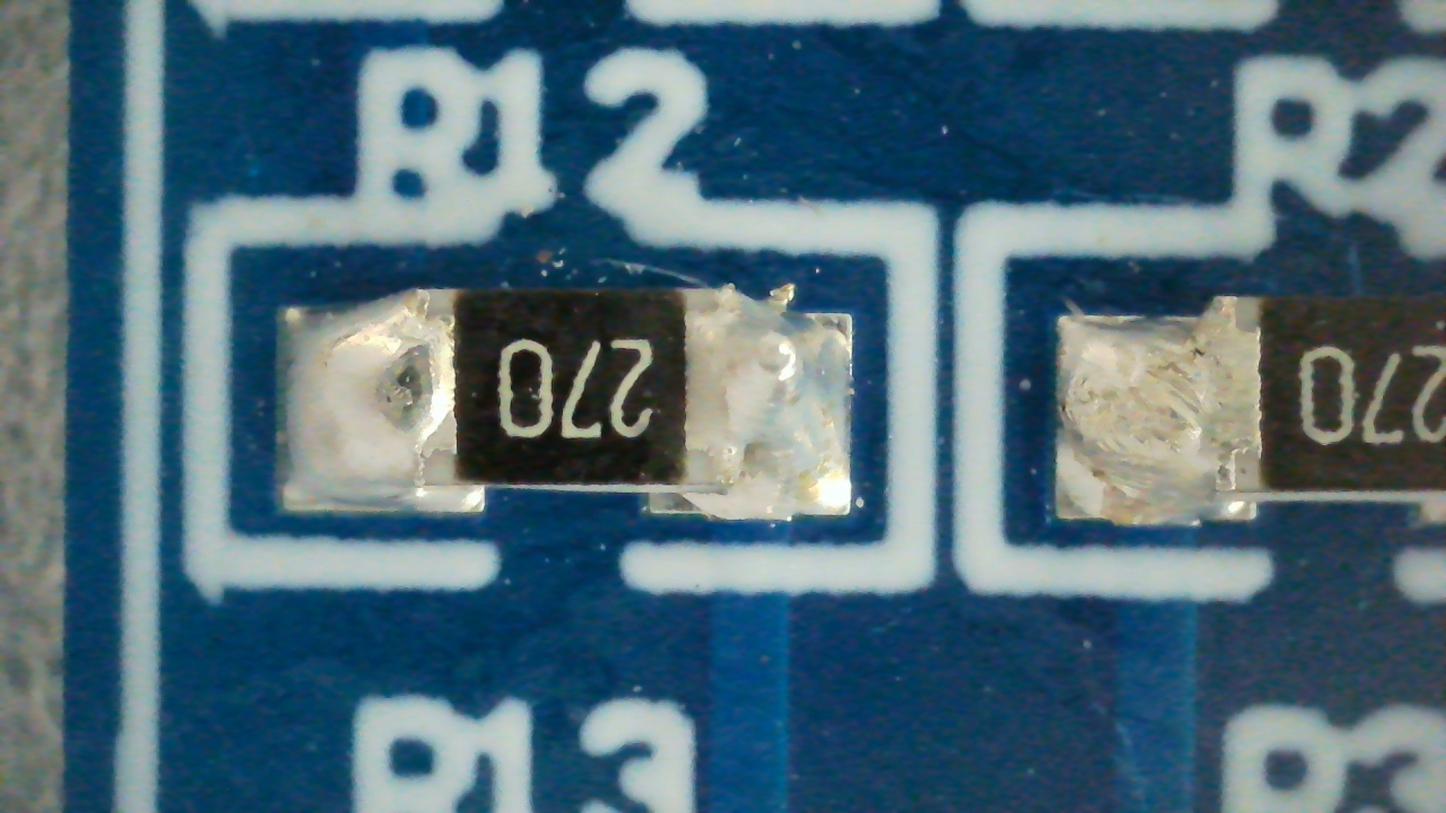NG: (282, 287, 850, 520)
